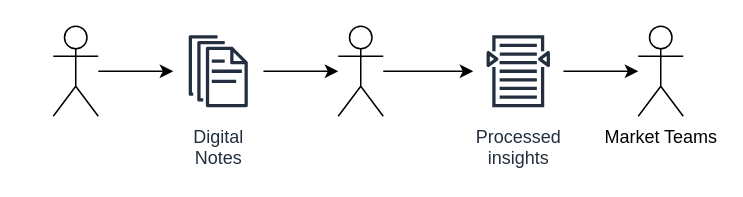
Some shapes in this 743 by 197 pixel diagram are drawn without their labels. The centre of each missing label's shape, as x and y in pixels:
Healthcare Practitioners: the point at 75,70
Product Teams: the point at 360,70
